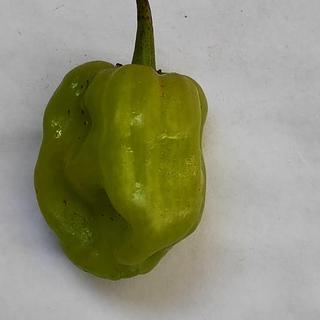Grade-A: (31, 56, 214, 282)
